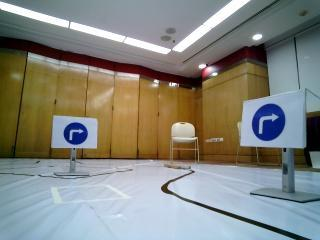right: (239, 101, 302, 140), (55, 119, 94, 148)
